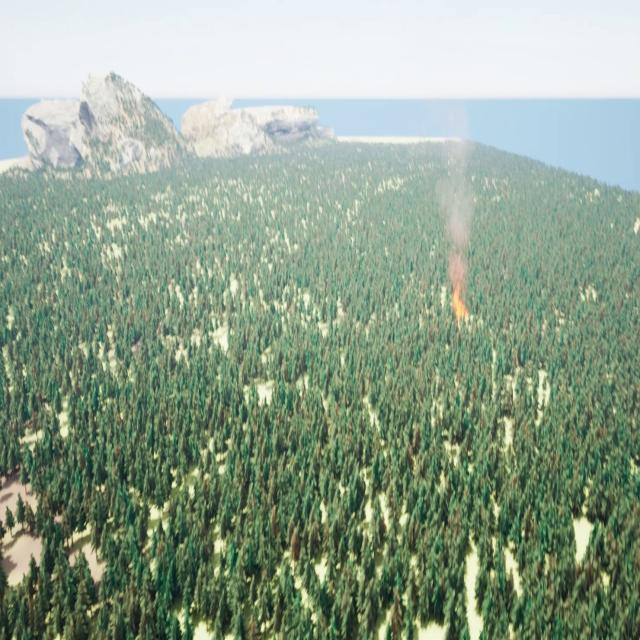fire: (452, 285, 468, 321)
smoke: (437, 134, 474, 290)
